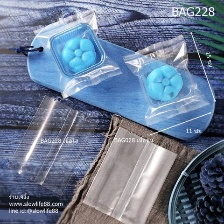snack: (2, 90, 182, 224), (118, 29, 214, 130), (29, 5, 126, 103)
